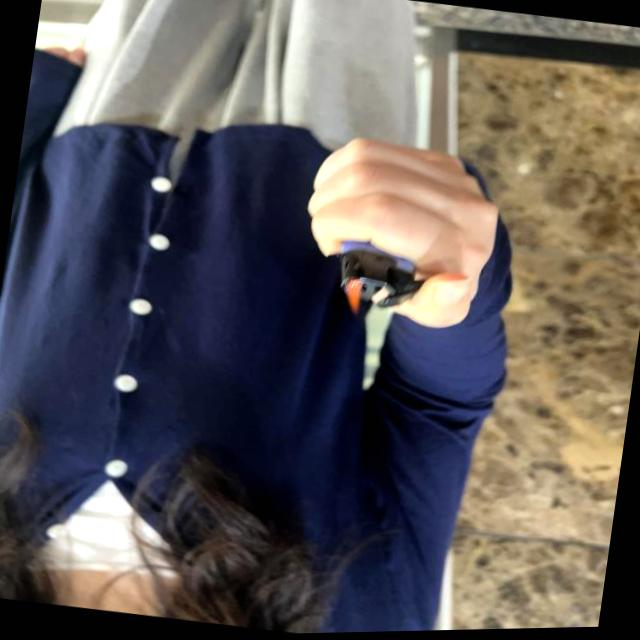helmet: (335, 284, 365, 319)
